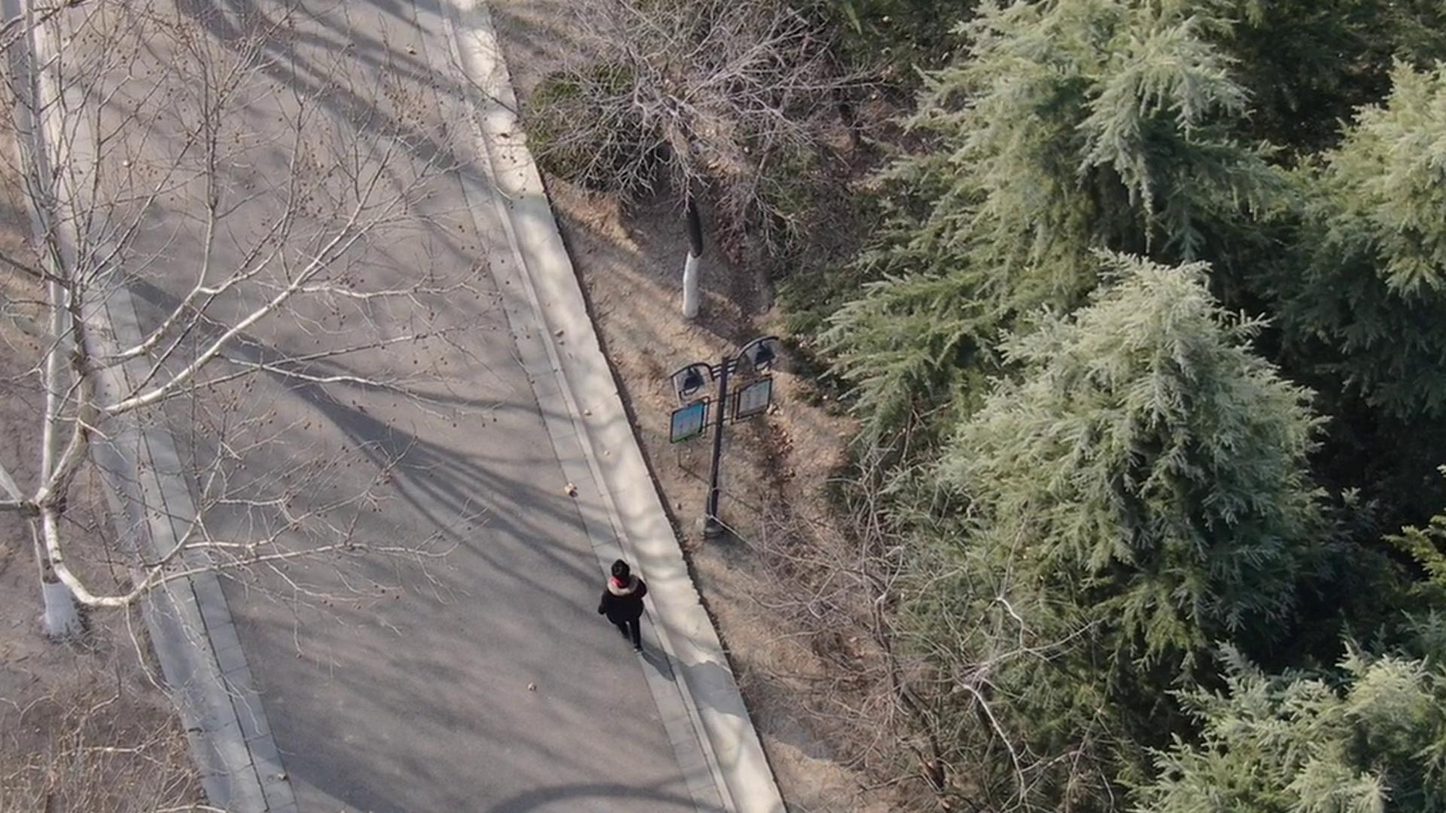human: (601, 559, 663, 669)
